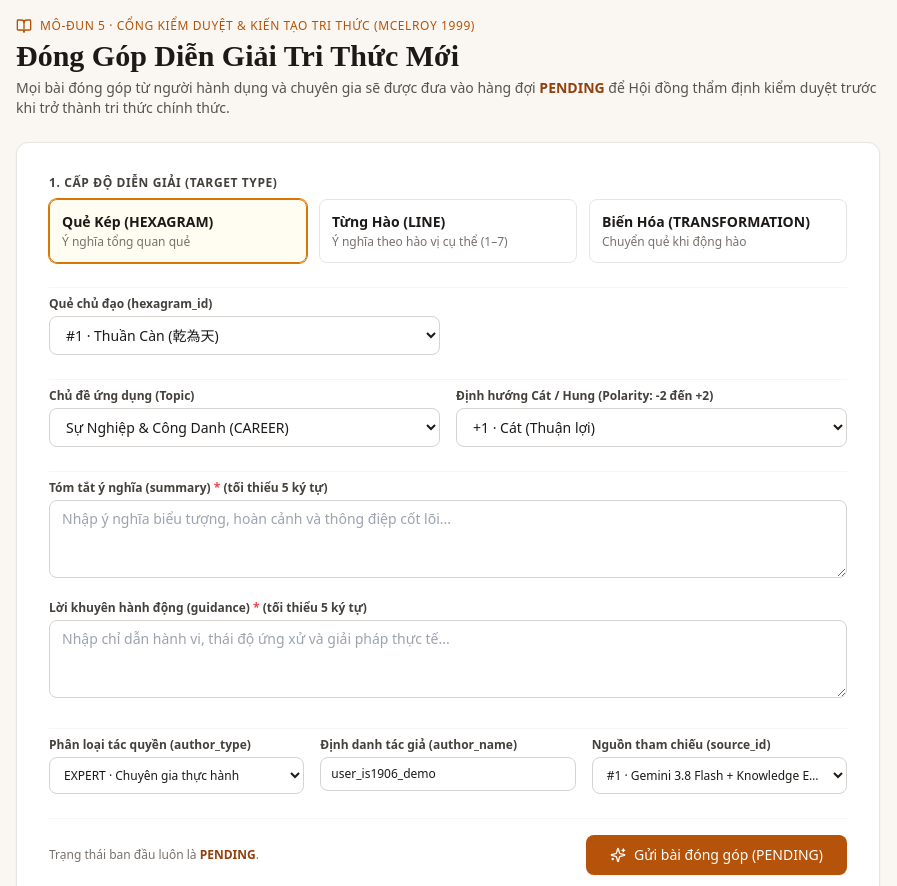
Scenario: Gate 10: Quản Trị Tri Thức & Kiểm Duyệt (Knowledge Governance) › 5. Kiểm tra trường điều kiện và gửi Form Đóng Góp (ContributePage) › chuyển đổi sang TRANSFORMATION hiện moving_line_position 1-6 và to_hexagram_id
Click the button "Biến Hóa (TRANSFORMATION) Chuyển quẻ khi động hào" at (718, 231), box top-left (589, 199), bottom-right (847, 263)
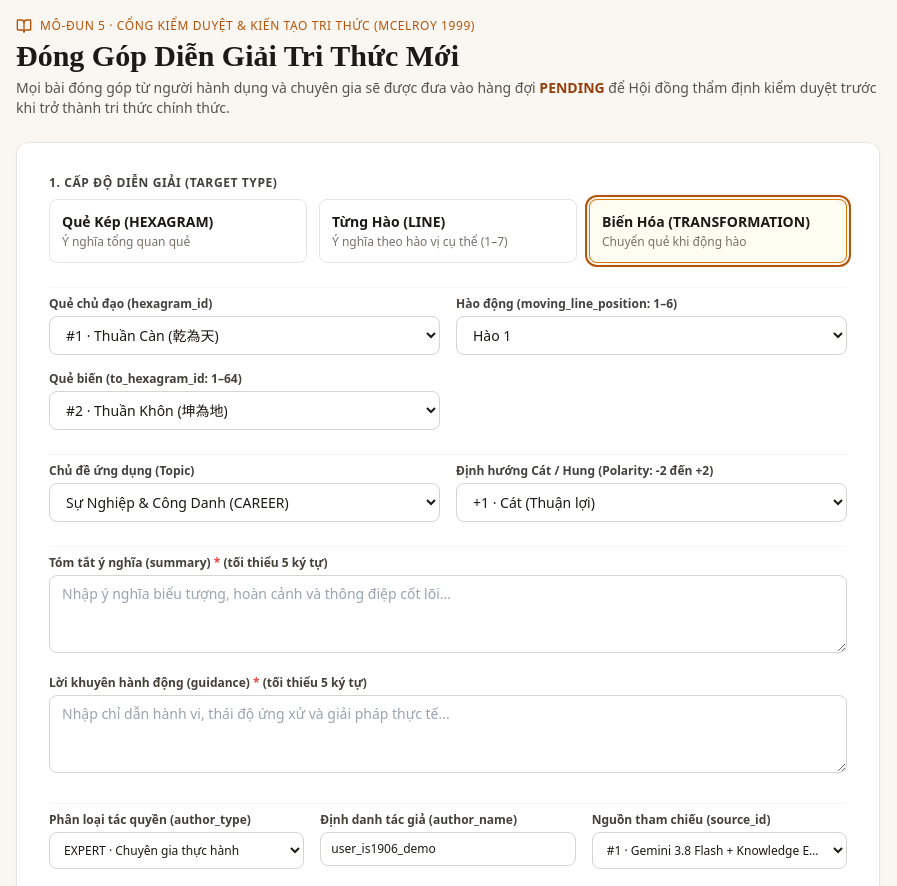
Expected: the dropdown labelled "Hào động (moving_line_position: 1–6)" is shown, top-left (456, 316), bottom-right (847, 355)
Expected: the dropdown labelled "Quẻ biến (to_hexagram_id: 1–64)" is shown, top-left (49, 391), bottom-right (440, 430)
